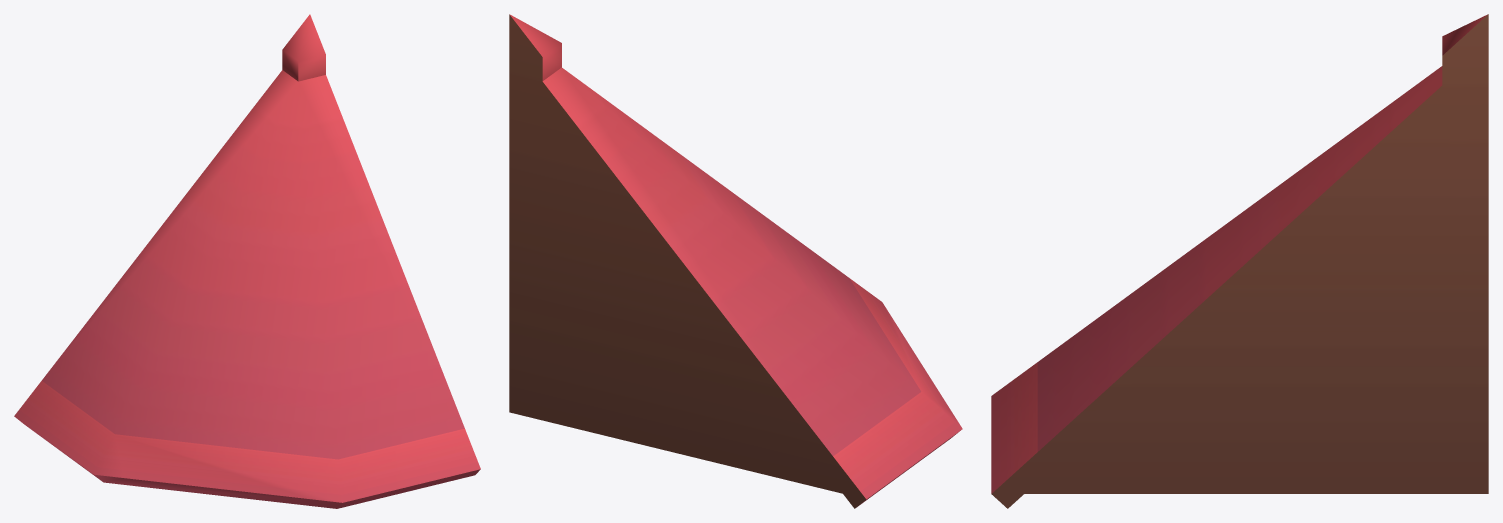
File: roof-high-corner-round.glb
3 renders of one model, left to right at view 1: azimuth 30°, elevation 25°; view 2: azimuth 150°, elevation 25°; view 3: azimuth 270°, elevation 25°, orthographic. The views are drawn at different scales.
Parts seen in each view (by area): view 1: roof-high-corner-round; view 2: roof-high-corner-round; view 3: roof-high-corner-round.
Part boxes in pixels (<box>): roof-high-corner-round: <box>14,14,480,508</box>; roof-high-corner-round: <box>509,14,962,508</box>; roof-high-corner-round: <box>991,14,1488,508</box>.
Bounding box in the file's own units: 1.07 × 1.18 × 1.07.
1 material, 1 textured.
